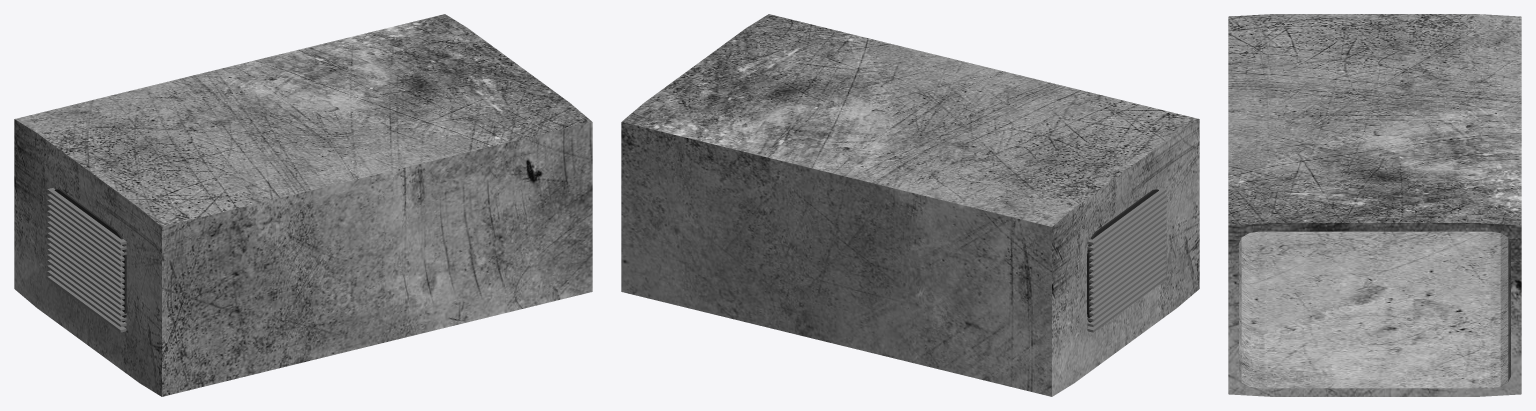
The model's file is vent_deadEnd.fbx.
3 views of the same model, side by side, from view 1: azimuth 30°, elevation 25°; view 2: azimuth 150°, elevation 25°; view 3: azimuth 270°, elevation 25° (orthographic).
Parts seen in each view (by area): view 1: Cube.005, Cube.007, Cube.002; view 2: Cube.005, Cube.007, Cube.002; view 3: Cube.005.
Boxes of the visible parts, <box> form: Cube.005: <box>14,14,592,396</box>; Cube.007: <box>47,188,126,332</box>; Cube.002: <box>54,189,126,322</box>; Cube.005: <box>621,14,1199,396</box>; Cube.007: <box>1087,188,1166,332</box>; Cube.002: <box>1087,189,1158,322</box>; Cube.005: <box>1228,14,1521,396</box>.
Size of the model in its own units: 4039 by 2371 by 1554.
